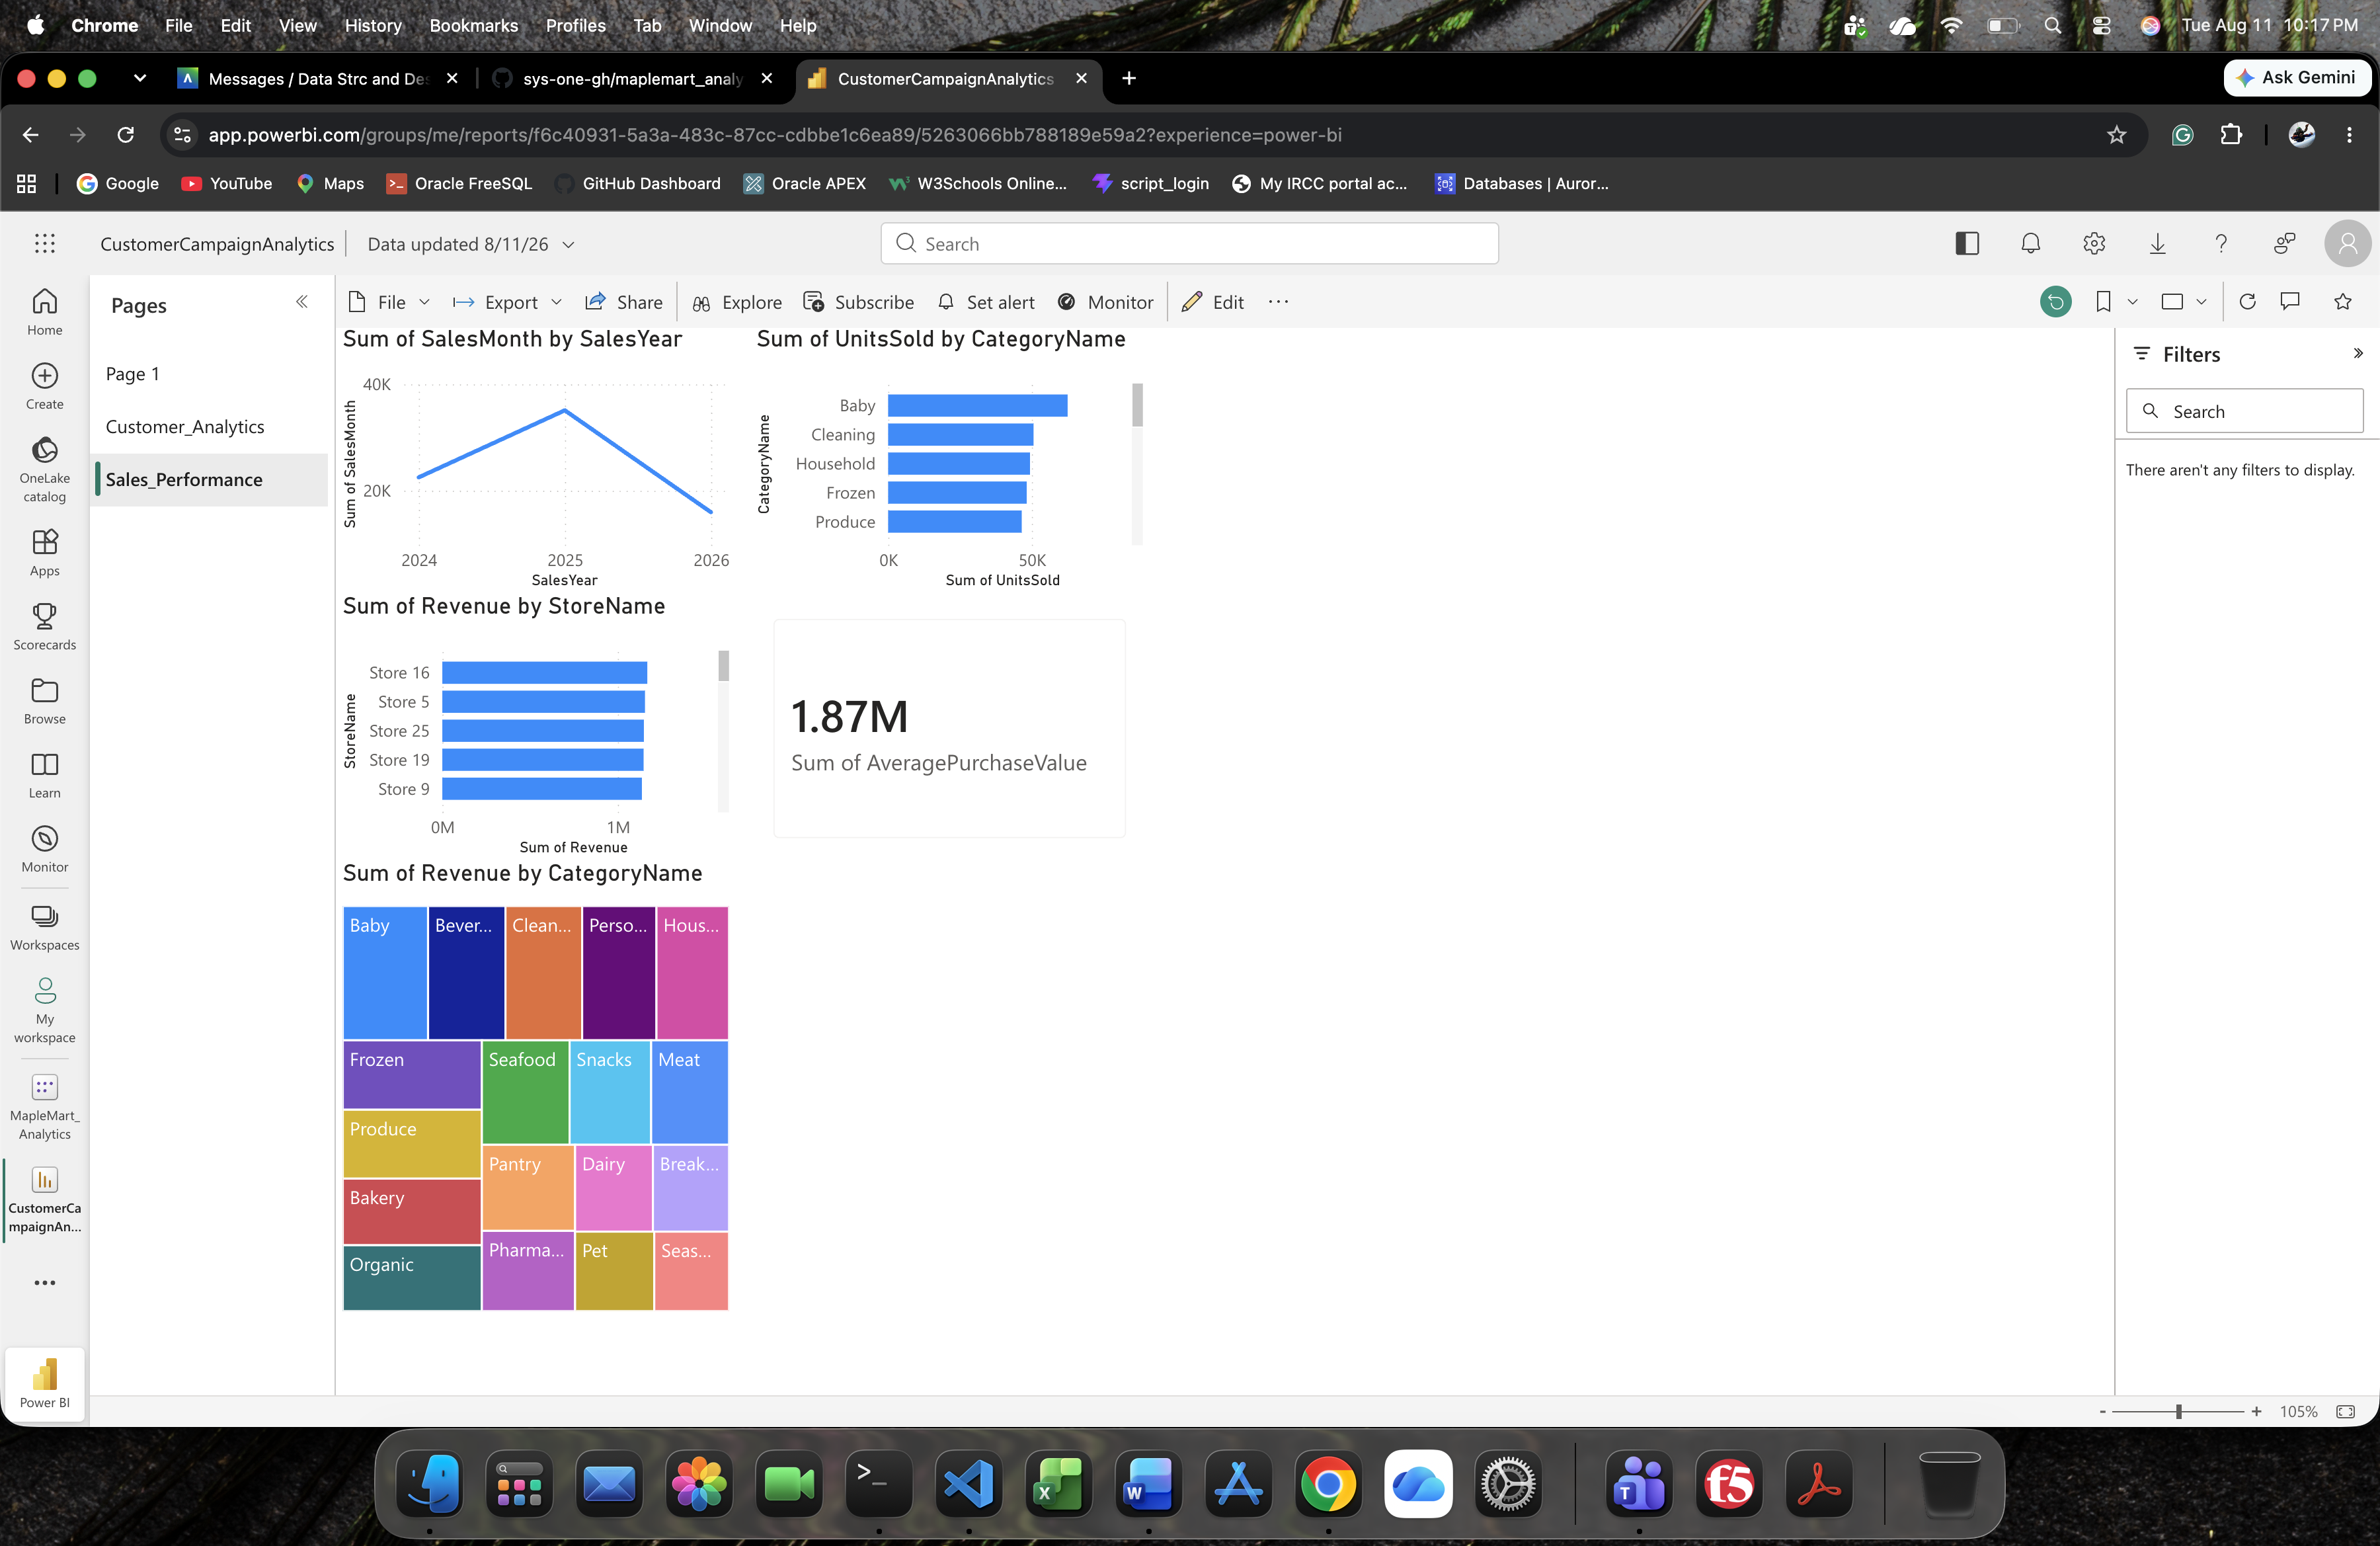

The page's visual inventory and layout, read from the dashboard file:
{"tool":"powerbi","page":{"name":"Sales_Performance","canvas":[1280,720],"ordinal":2},"visuals":[{"type":"lineChart","fields":{"Category":["vwSalesPerformance.SalesYear"],"Y":["Sum(vwSalesPerformance.SalesMonth)"]},"box":[0,0,288,192],"z":0},{"type":"barChart","fields":{"Category":["vwSalesPerformance.StoreName"],"Y":["Sum(vwSalesPerformance.Revenue)"]},"box":[0,192,288,192],"z":1000},{"type":"treemap","fields":{"Group":["vwSalesPerformance.CategoryName"],"Values":["Sum(vwSalesPerformance.Revenue)"]},"box":[0,384,288,328],"z":2000},{"type":"barChart","fields":{"Category":["vwSalesPerformance.CategoryName"],"Y":["Sum(vwSalesPerformance.UnitsSold)"]},"box":[298,0,288,192],"z":3000},{"type":"cardVisual","fields":{"Data":["Sum(vwCustomerAnalytics.AveragePurchaseValue)"]},"box":[298,192,288,192],"z":4000}]}

Visuals, with their boxes on the page's 1280x720 design canvas (x1, y1, x2, y2). These are canvas units, not pixel positions in the 2380x1546 screenshot, which may show the page scaled, cropped or inside an application window:
lineChart - vwSalesPerformance.SalesYear x Sum(vwSalesPerformance.SalesMonth): <box>0,0,288,192</box>
barChart - vwSalesPerformance.StoreName x Sum(vwSalesPerformance.Revenue): <box>0,192,288,384</box>
treemap - vwSalesPerformance.CategoryName x Sum(vwSalesPerformance.Revenue): <box>0,384,288,712</box>
barChart - vwSalesPerformance.CategoryName x Sum(vwSalesPerformance.UnitsSold): <box>298,0,586,192</box>
cardVisual - Sum(vwCustomerAnalytics.AveragePurchaseValue): <box>298,192,586,384</box>
